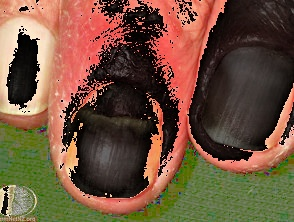Nail_psoriasis: (34, 0, 217, 222), (194, 0, 294, 166), (0, 0, 58, 126)
